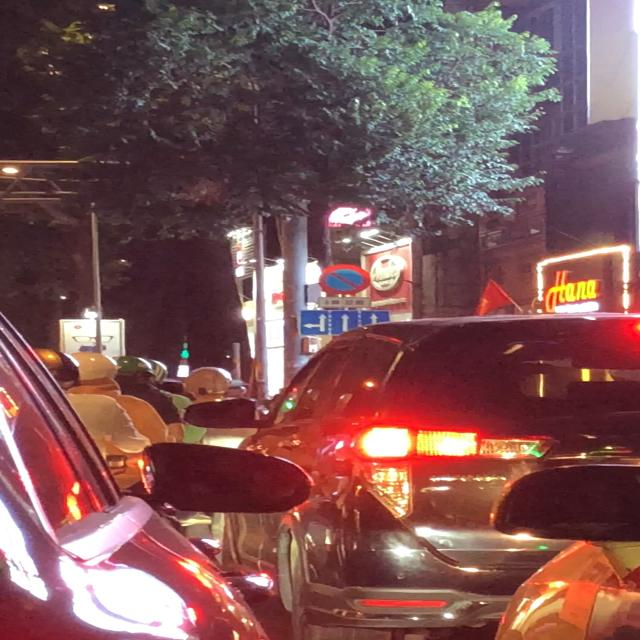Bien bao cam do xe: (317, 263, 379, 297)
